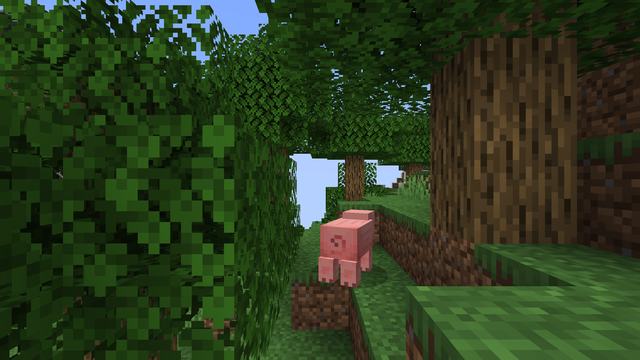cochons: (322, 217, 379, 282)
